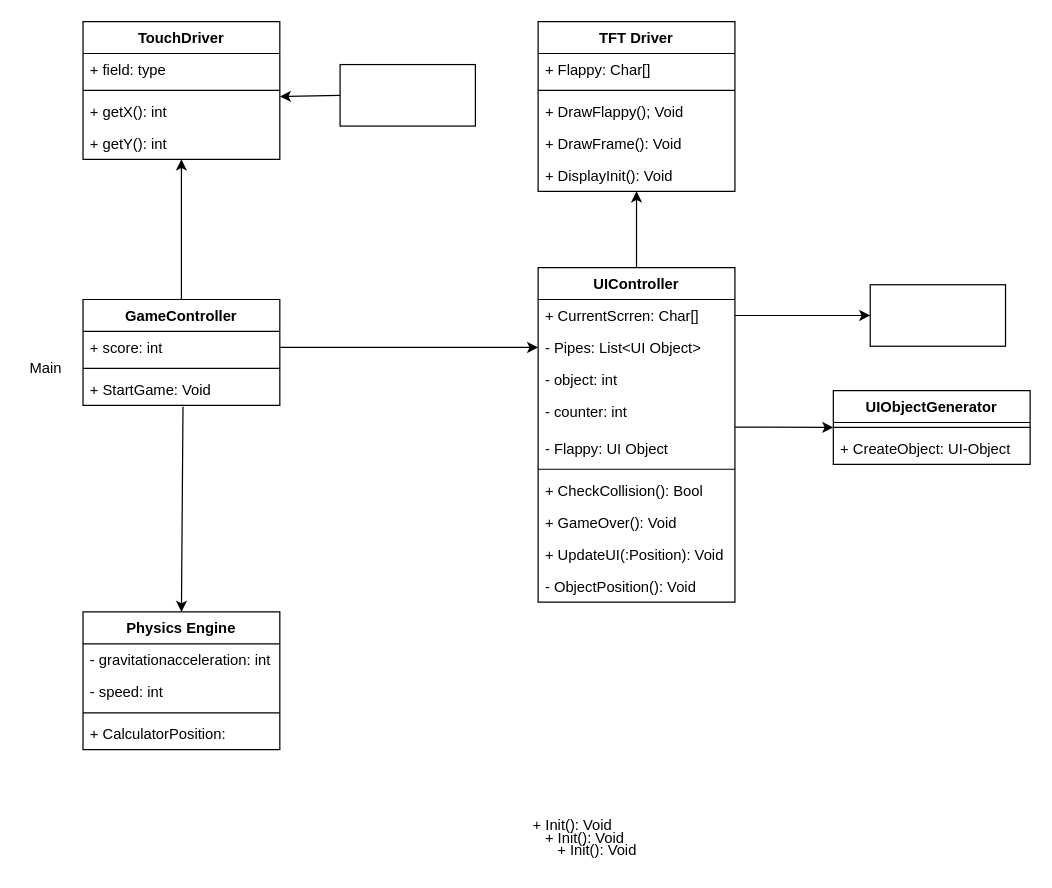
Image size: 1052x888. Some labels were removed from this diagram. The shapes that lost their labels are listed below. From the top down, each one's centre as x and y in pixels, then its label:
At (407,94): "Position".
At (937,315): "UI-Object".
